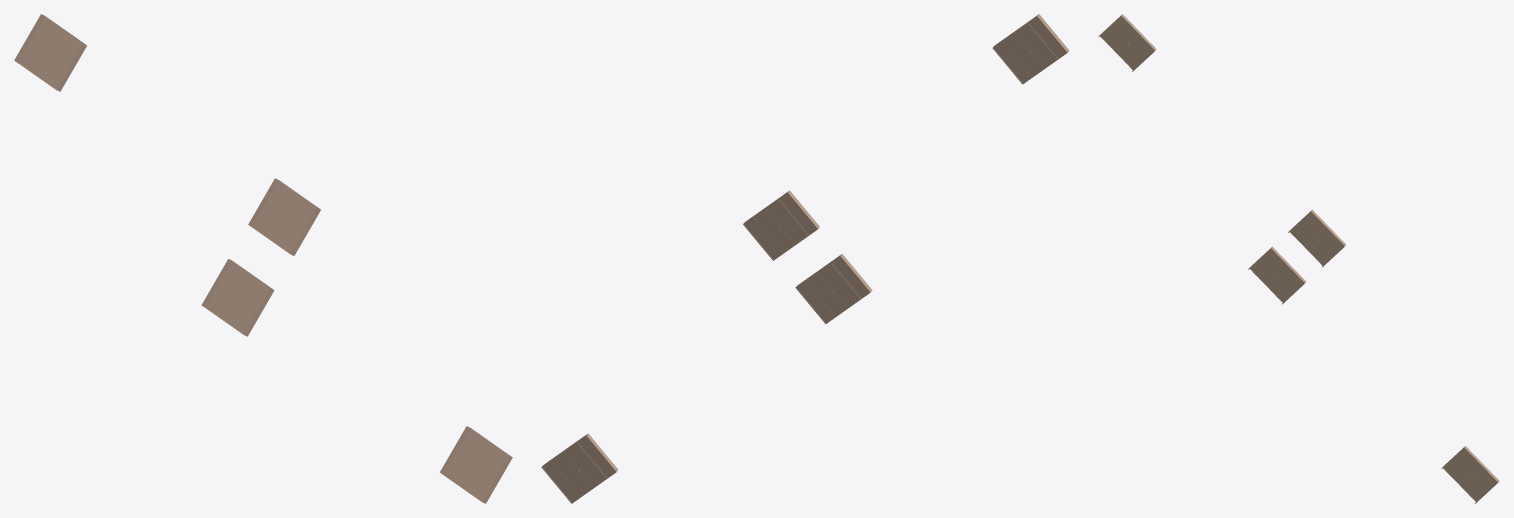
3 views of the same model, side by side, from view 1: azimuth 30°, elevation 25°; view 2: azimuth 150°, elevation 25°; view 3: azimuth 330°, elevation 25° (orthographic). The views are drawn at different scales.
Visible parts, largest first — view 1: mesh; view 2: mesh; view 3: mesh.
Part boxes in pixels (x1,y1,x2,y2): mesh: (14, 14, 512, 503); mesh: (541, 14, 1069, 503); mesh: (1098, 14, 1499, 503).
Bounding box in the file's own units: 24.91 × 27.82 × 4.14.
